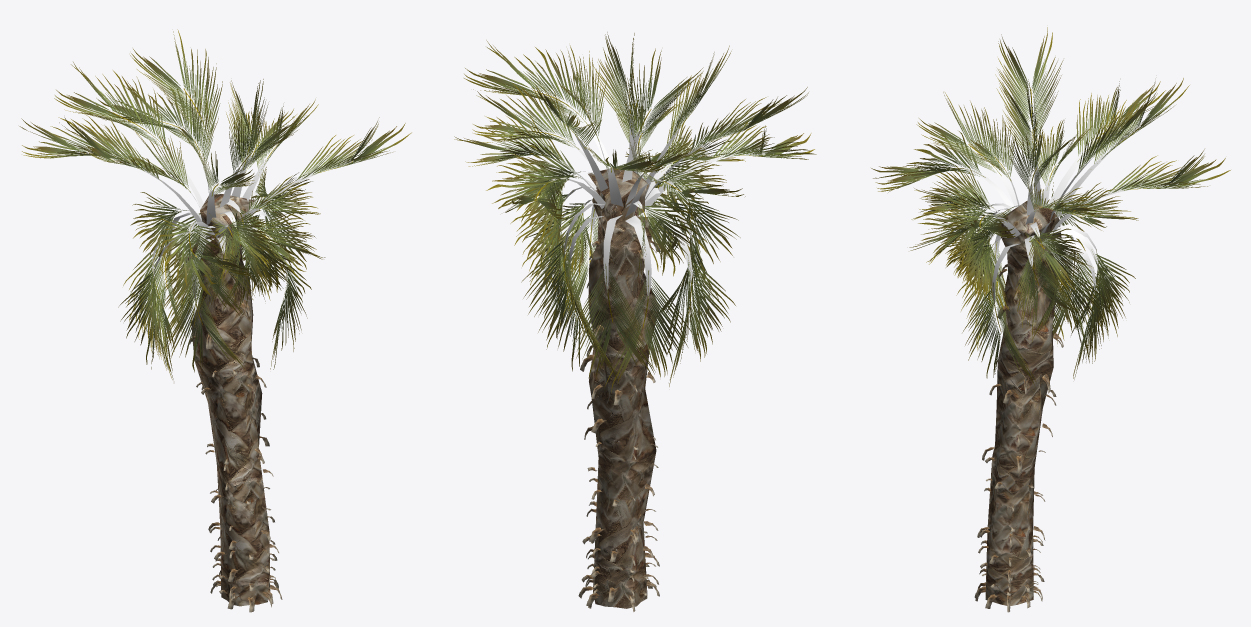
The model's file is palm0.obj.
The picture shows the model from 3 angles, left to right: view 1: azimuth 30°, elevation 25°; view 2: azimuth 150°, elevation 25°; view 3: azimuth 270°, elevation 25°; orthographic projection. The views are drawn at different scales.
Visible parts, largest first — view 1: curly palm leaf, palm07, object 2, barkpalm; view 2: curly palm leaf, palm07, object 2, barkpalm; view 3: curly palm leaf, palm07, object 2, barkpalm.
Boxes of the visible parts, box(x1,y1,x2,y2) form: curly palm leaf: box(19, 29, 411, 379); palm07: box(191, 194, 270, 606); object 2: box(130, 119, 318, 301); barkpalm: box(185, 256, 282, 612); curly palm leaf: box(454, 32, 816, 392); palm07: box(588, 166, 659, 608); object 2: box(549, 106, 734, 298); barkpalm: box(578, 240, 663, 611); curly palm leaf: box(871, 27, 1230, 387); palm07: box(985, 200, 1062, 606); object 2: box(965, 124, 1129, 305); barkpalm: box(974, 260, 1063, 612).
Bounding box in the file's own units: 152 × 239 × 159.
4 materials, 3 textured.
